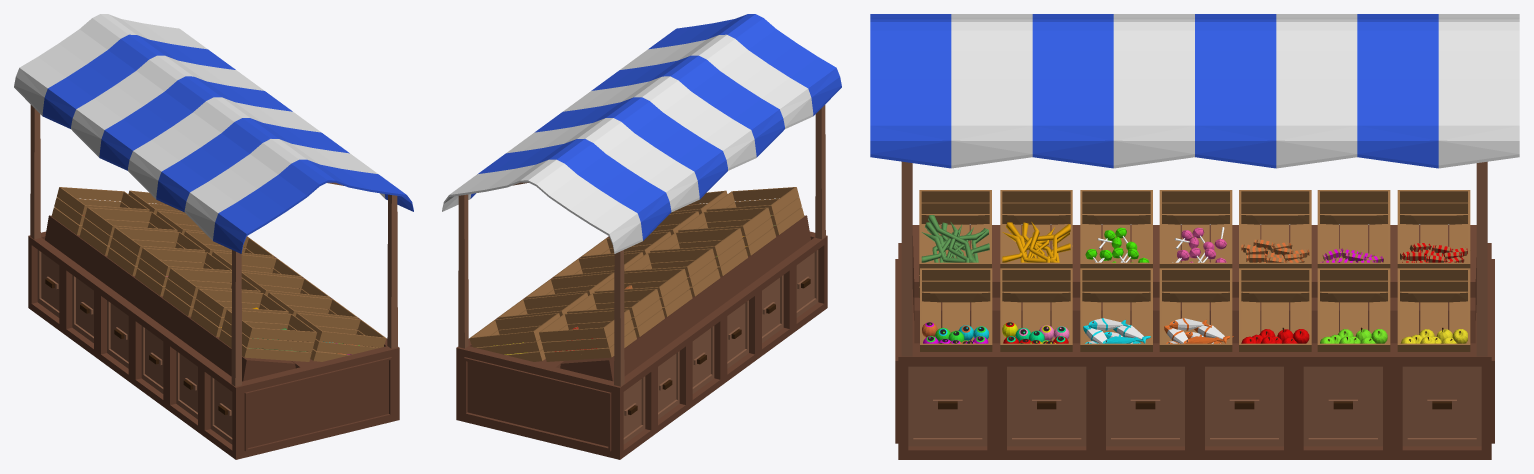
File: IngredientStandBlue.fbx
3 views of the same model, side by side, from view 1: azimuth 30°, elevation 25°; view 2: azimuth 150°, elevation 25°; view 3: azimuth 270°, elevation 25° (orthographic). The views are drawn at different scales.
Parts seen in each view (by area): view 1: IngredientStand; view 2: IngredientStand; view 3: IngredientStand.
Part boxes in pixels (x1,y1,x2,y2): IngredientStand: [14, 14, 413, 459]; IngredientStand: [442, 14, 841, 459]; IngredientStand: [870, 14, 1519, 459].
Size of the model in its own units: 720 by 1065 by 1645.
